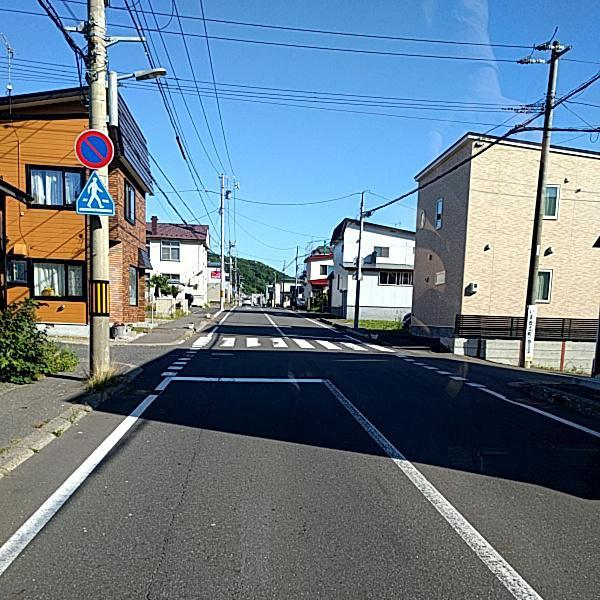D44: (323, 375, 538, 598)
